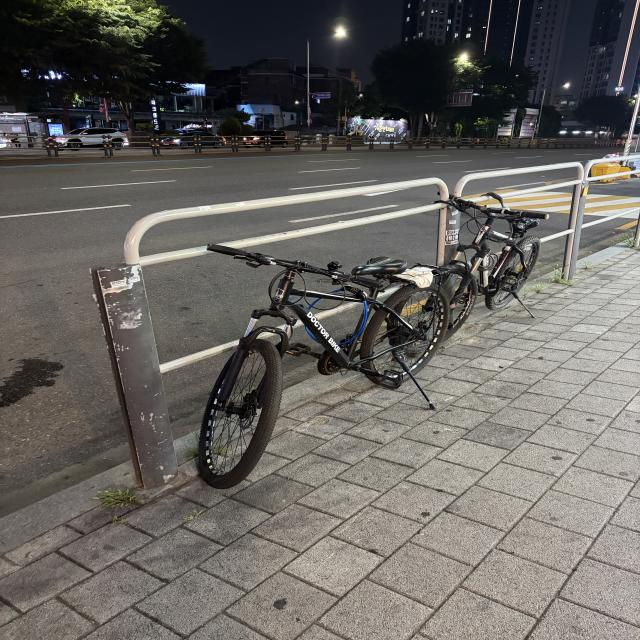bicycle: (166, 224, 505, 497)
